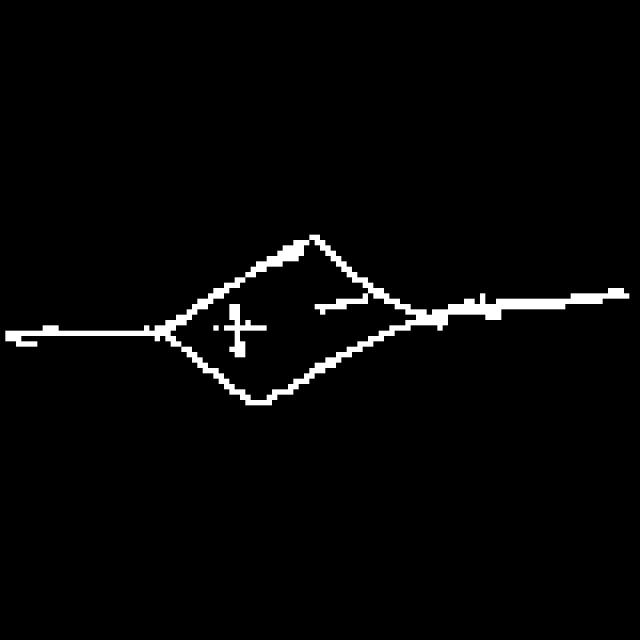dependant_voltage: (150, 214, 434, 417)
